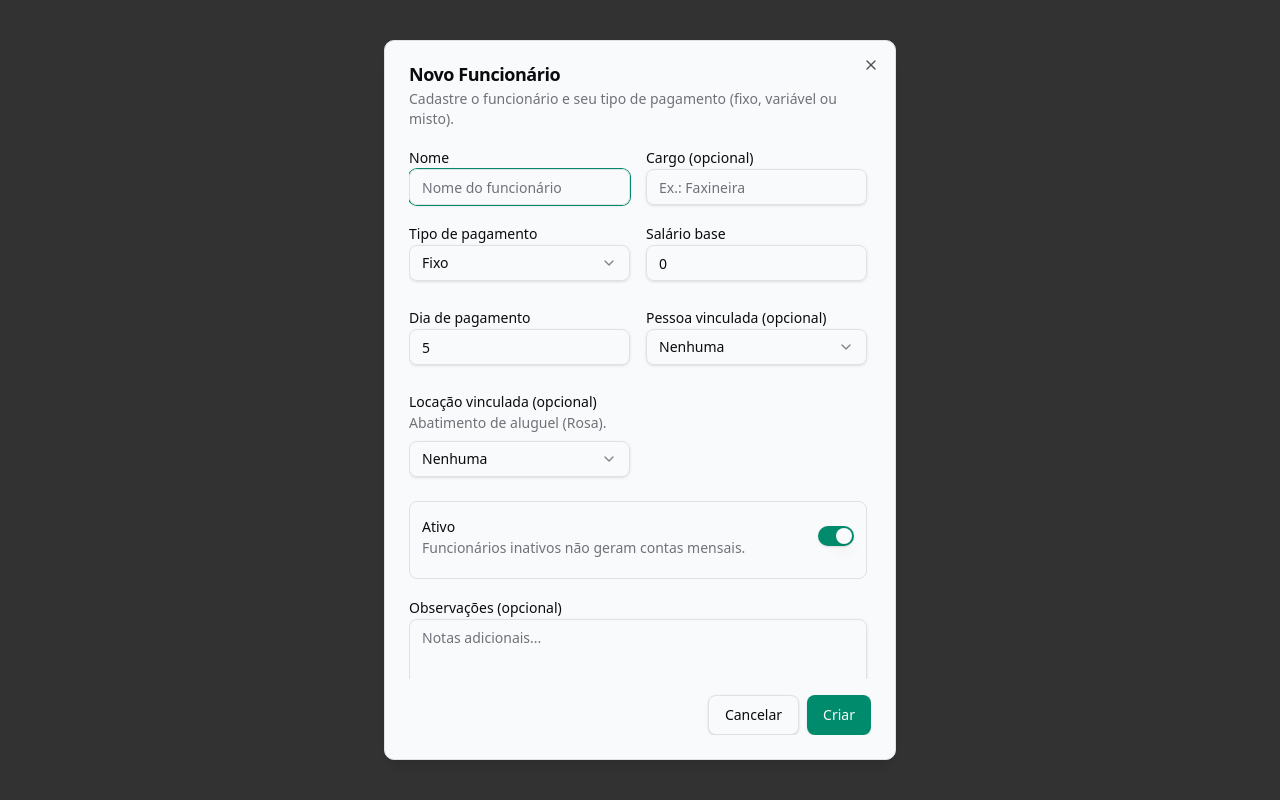
Test: EmployeeFormModal › requires base_salary for fixed type (PT validation blocks submit)
Type "Adriana" into the field labelled "Nome".
click(520, 187); type("Adriana")  # box [409,169,630,205]
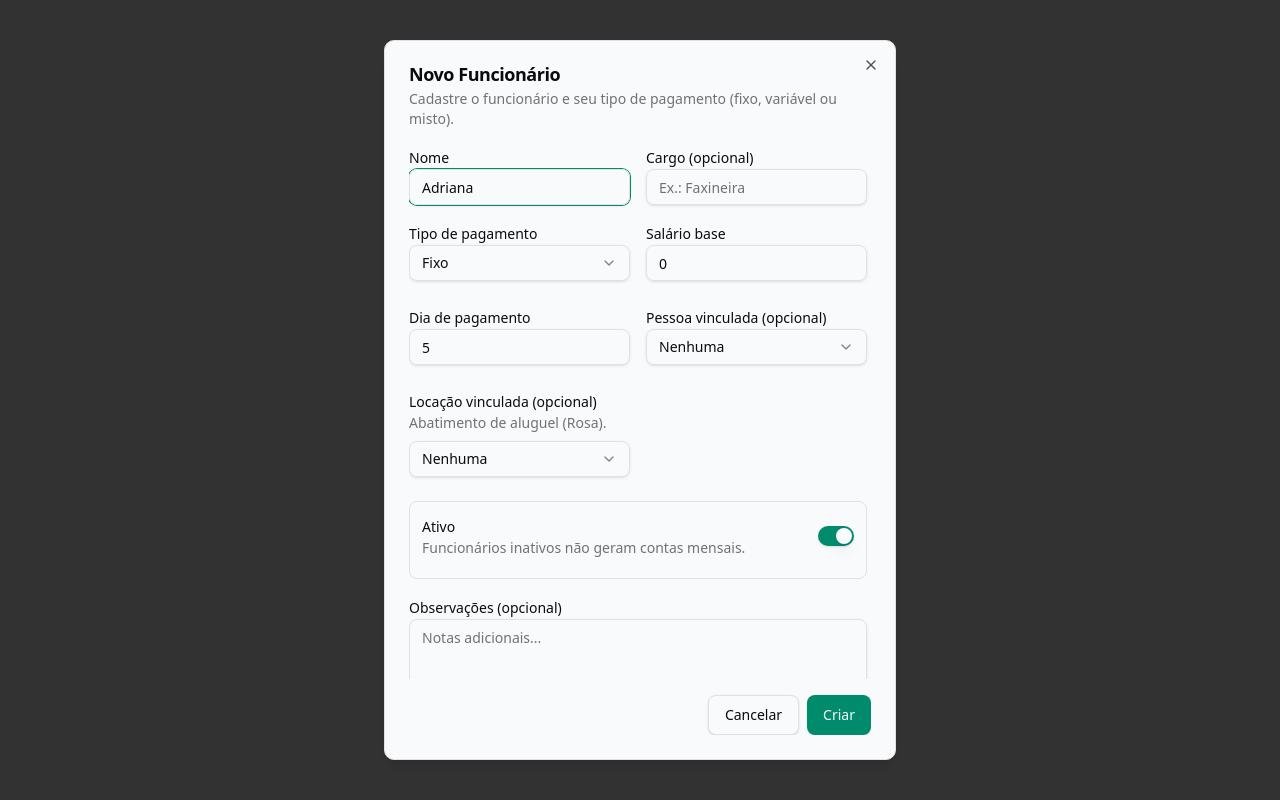
Clear the number field labelled "Salário base" at (756, 263), box [646,245,867,281]
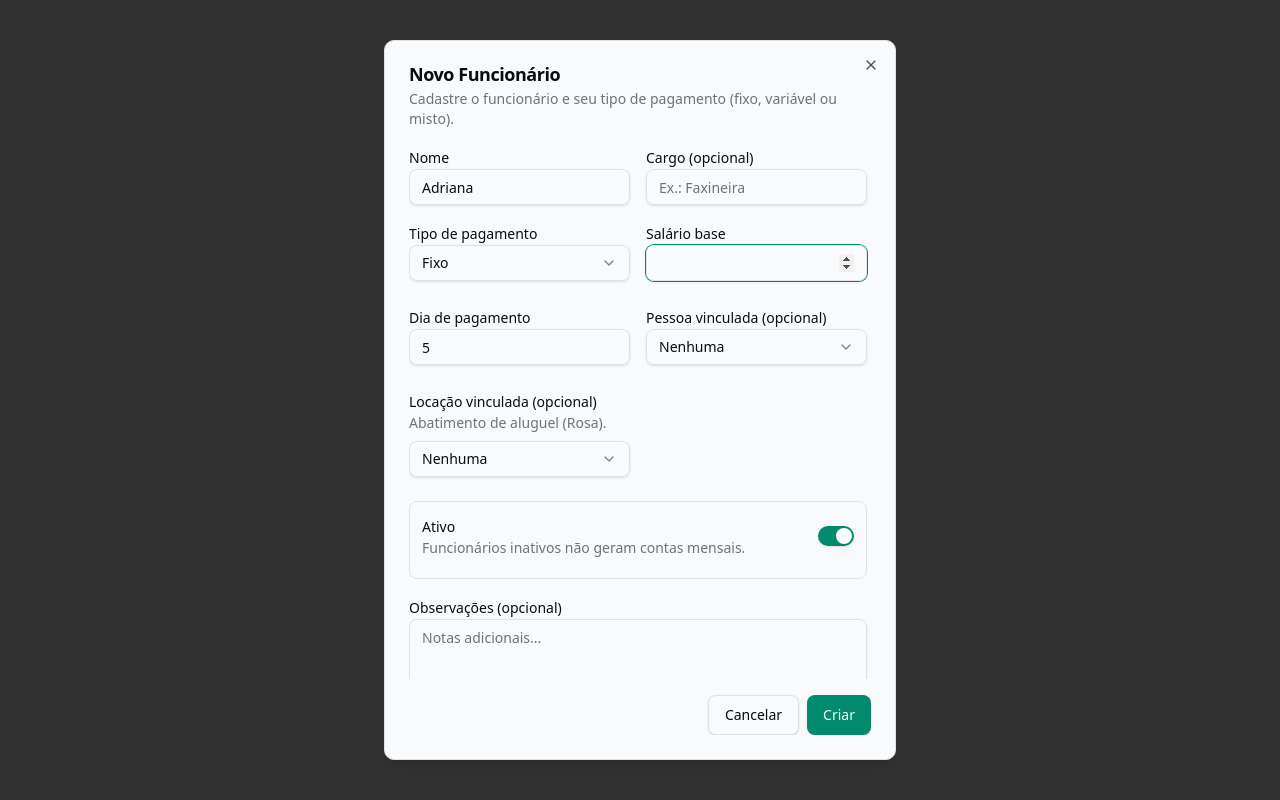
Click the button "Criar".
click(839, 715)  # box [807,695,871,735]
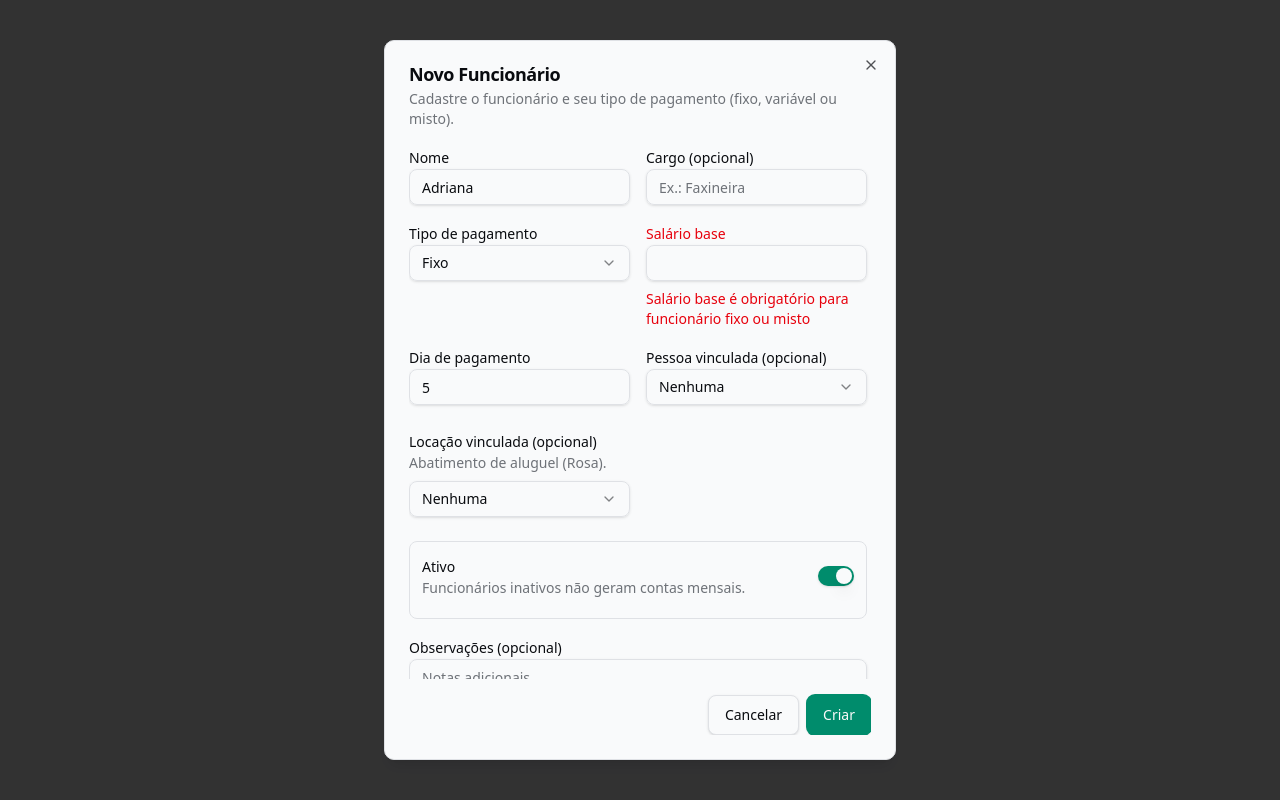
Expected: the text "Salário base é obrigatório para funcionário fixo ou misto" is shown, [646,289,867,329]
